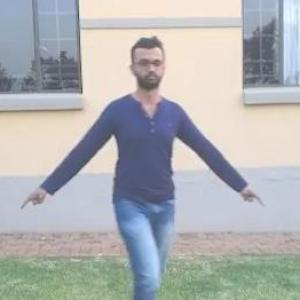land: (52, 49, 237, 299)
